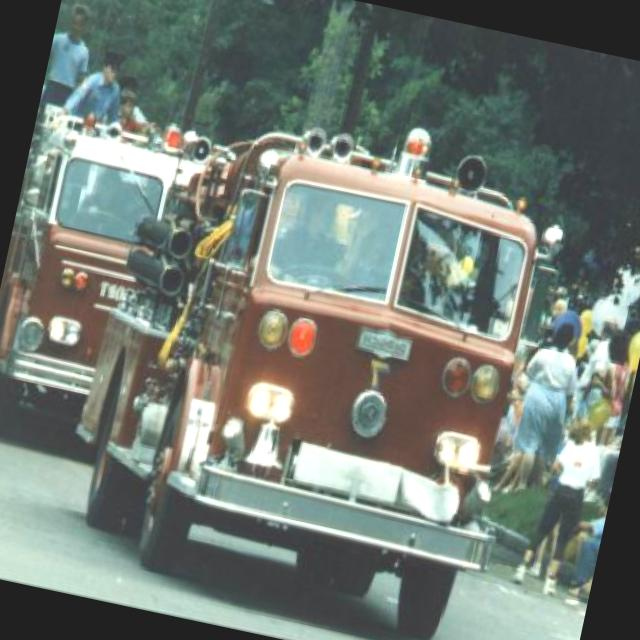Person: (484, 274, 640, 512), (244, 182, 376, 302), (502, 320, 588, 502), (526, 412, 582, 585), (34, 0, 99, 143), (46, 44, 134, 138), (579, 326, 640, 450), (564, 311, 621, 422), (564, 484, 610, 594), (72, 161, 126, 244), (117, 88, 162, 146), (110, 74, 157, 125)
